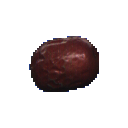gd: (21, 29, 114, 100)
